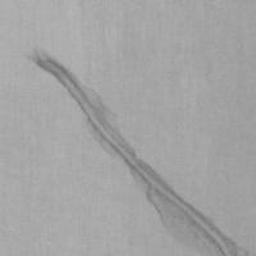Water spot: (24, 44, 256, 256)
